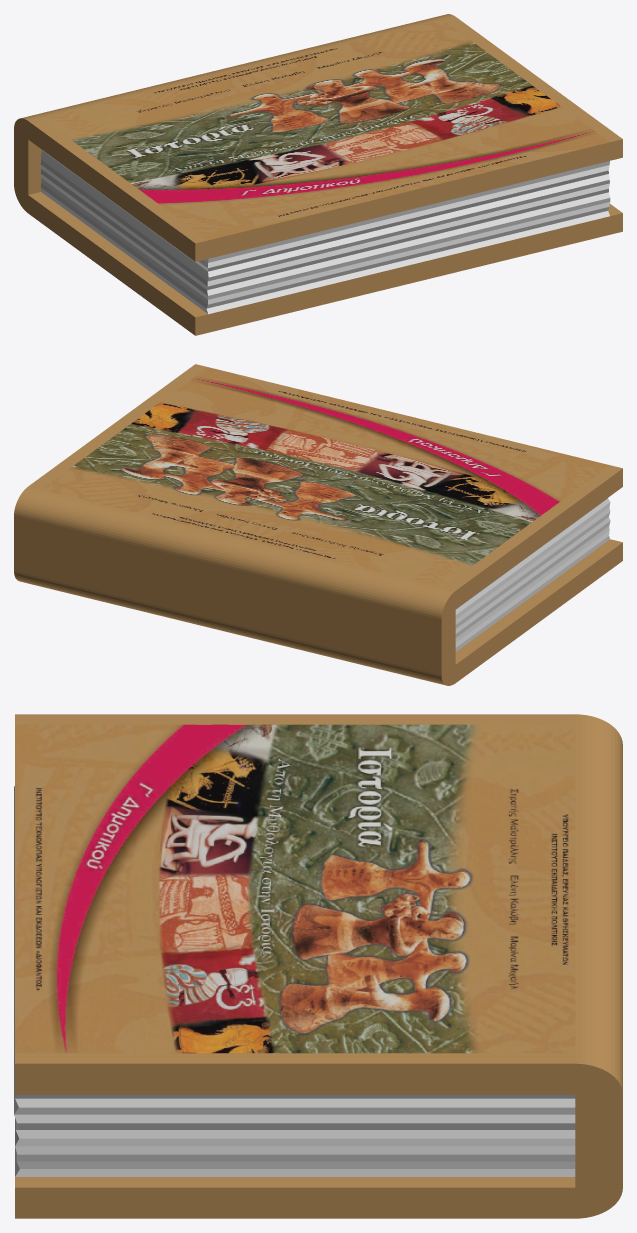
File: result.gltf
The picture shows the model from 3 angles, top to bottom: view 1: azimuth 30°, elevation 25°; view 2: azimuth 150°, elevation 25°; view 3: azimuth 270°, elevation 25°; orthographic projection. The views are drawn at different scales.
Visible parts, largest first — view 1: Cube; view 2: Cube; view 3: Cube.
Part boxes in pixels (bbox=[...]): Cube: bbox=[14, 14, 622, 335]; Cube: bbox=[14, 364, 622, 685]; Cube: bbox=[14, 714, 622, 1218].
Size of the model in its own units: 186 by 38.44 by 137.
Materials: 3 (2 with a texture image).
